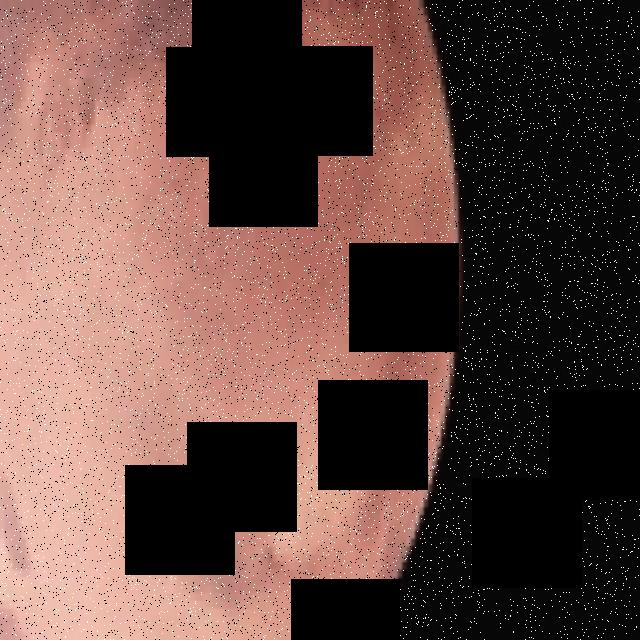Mars: (0, 0, 462, 640)
